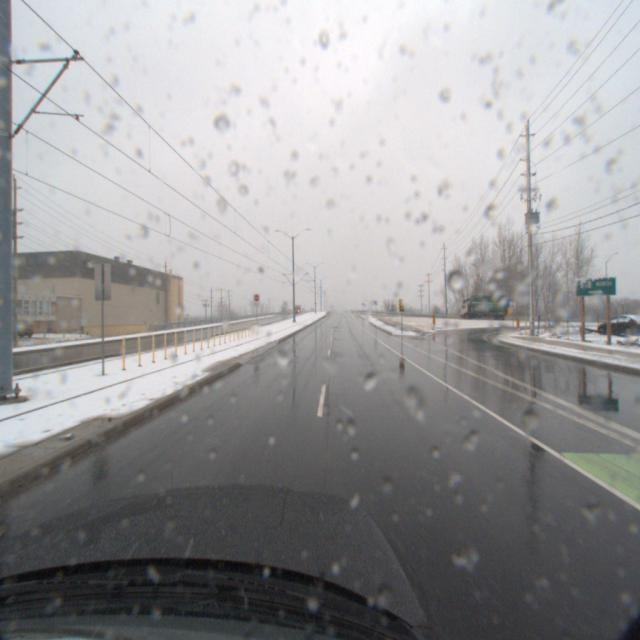Truck: (454, 294, 512, 319)
